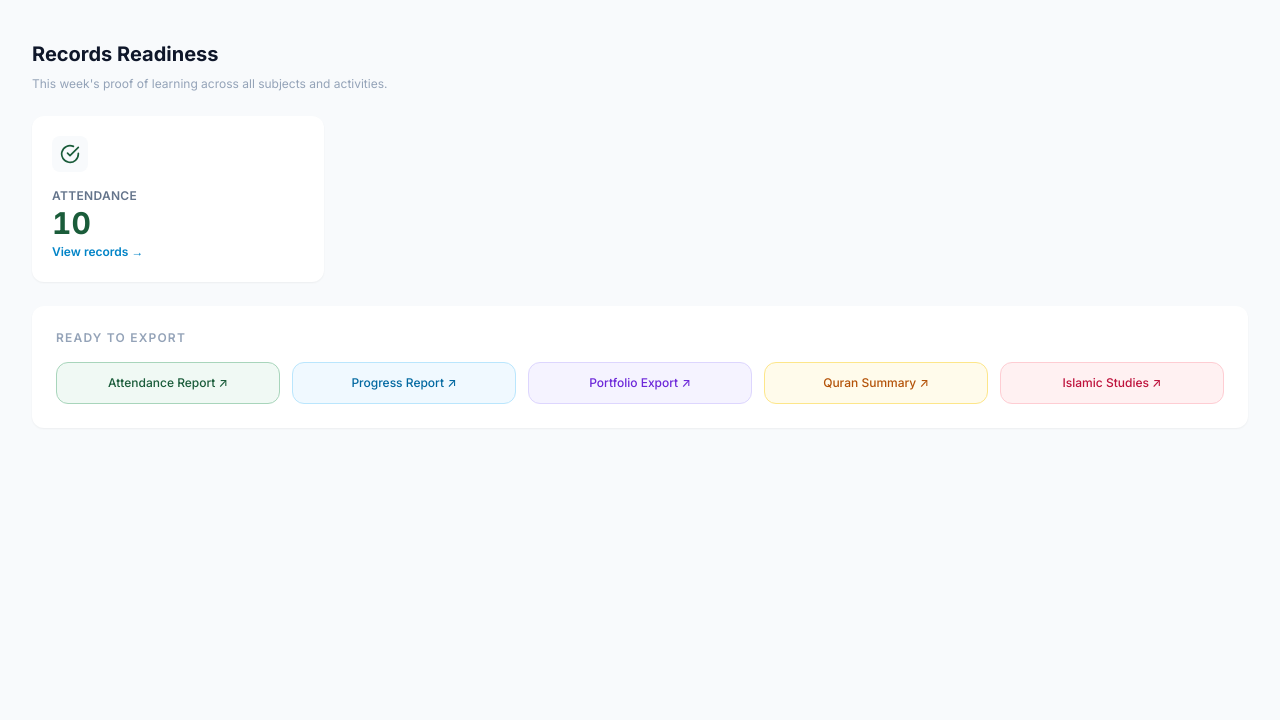
Scenario: RecordsProof — dashboard exports › modal has a Close button that dismisses the modal
What coordinates should you click on to do the following:
click the button "Attendance Report ↗"
I would click on:
 (168, 383)
Its box is [56,362,280,404].
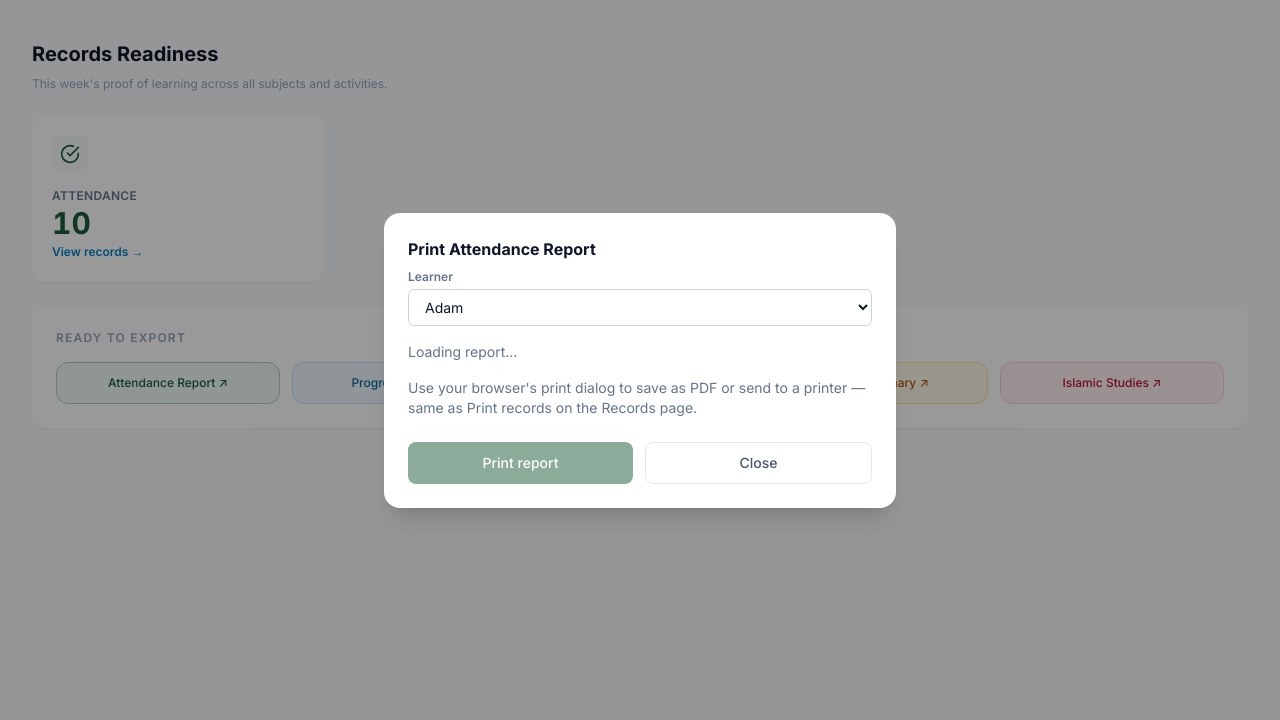
Expected: the button "Print report" is shown, [408,442,633,484]
What coordinates should you click on to do the following:
click the button "Close"
I would click on:
 (758, 462)
Its box is [645,442,872,484].
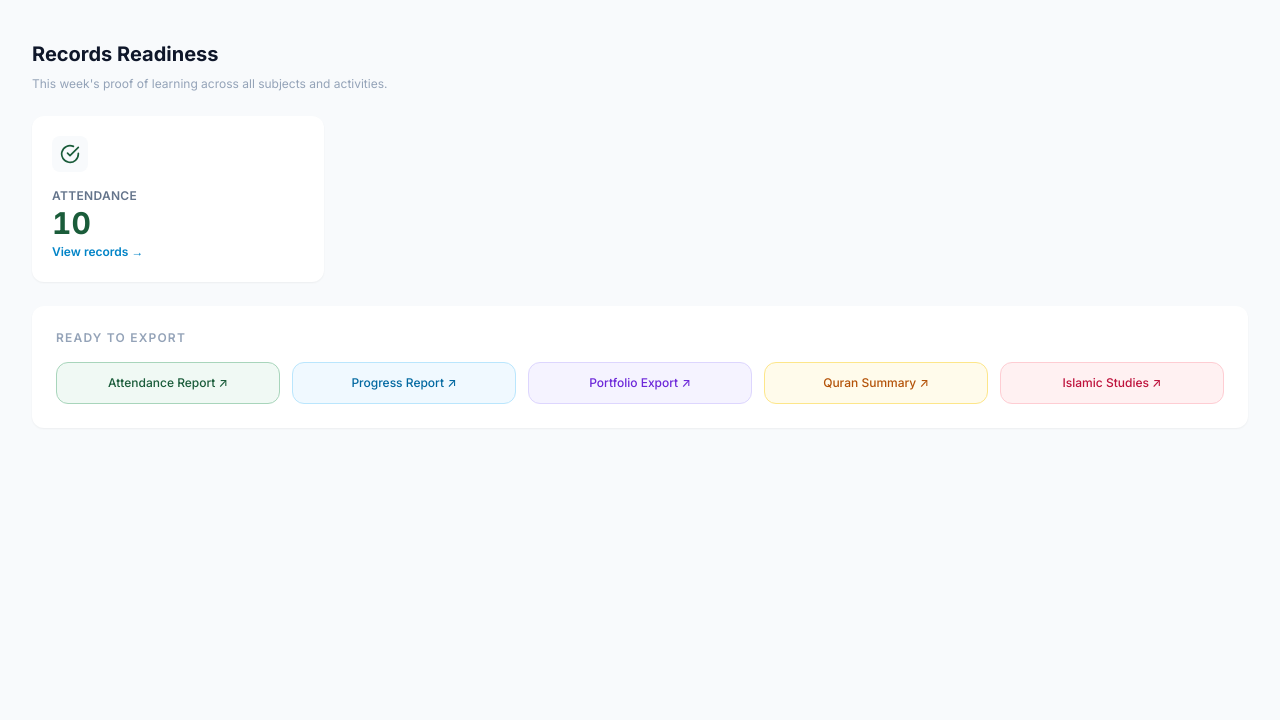
Expected: the button "Print report" is gone
